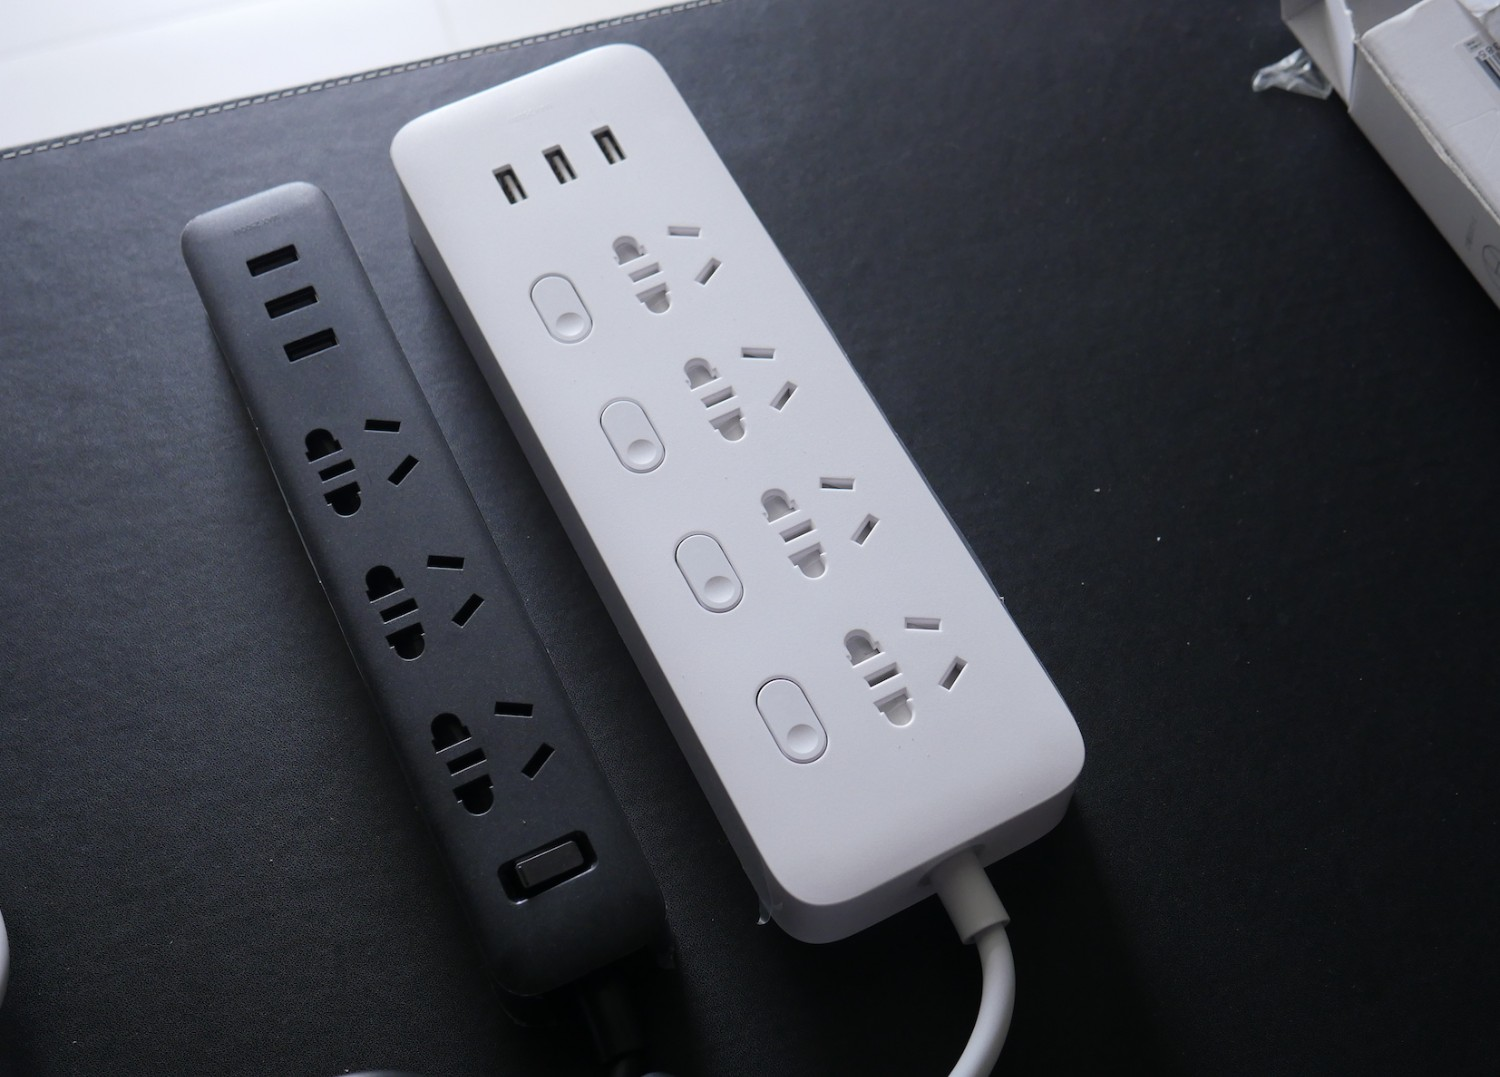Three_eye_plug: (383, 33, 1099, 957), (164, 154, 677, 1007)
